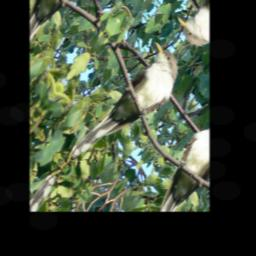Cuckoo: (63, 35, 190, 185)
